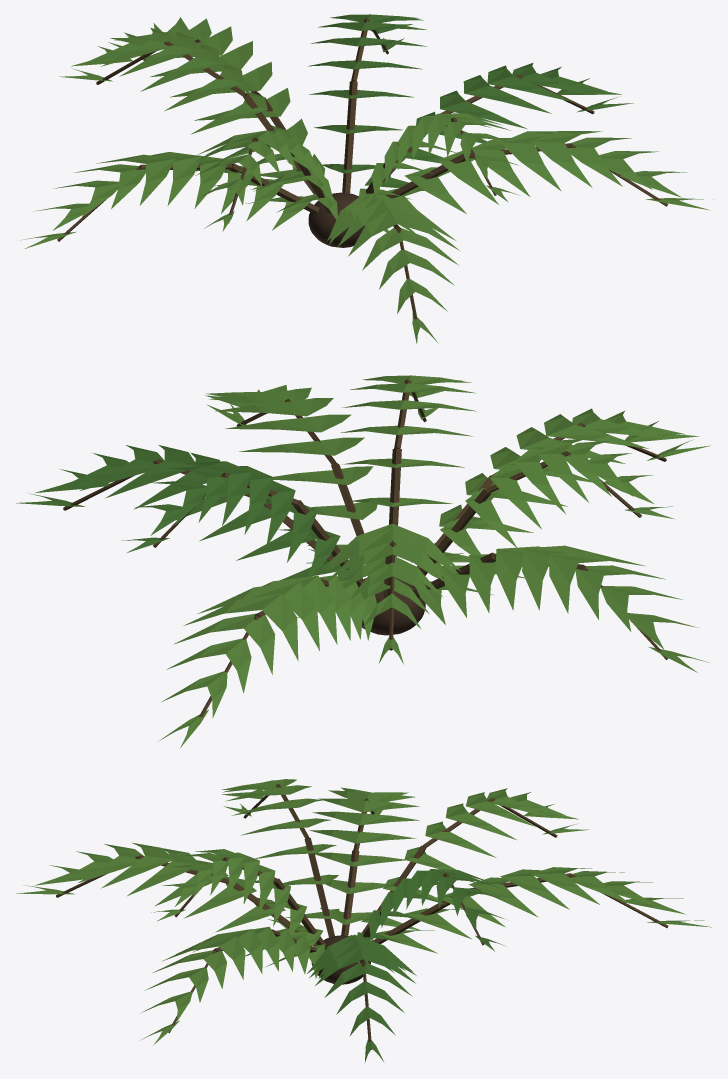
Rendered from fern.glb.
3 renders of one model, top to bottom at view 1: azimuth 30°, elevation 25°; view 2: azimuth 150°, elevation 25°; view 3: azimuth 270°, elevation 25°, orthographic. The views are drawn at different scales.
Visible parts, largest first — view 1: leaf2_57, leaf2_29, leaf2_43, leaf2_22, leaf_1, leaf2_36, leaf2_15, leaf2_50, leaf_8, trunk_0, stem_10; view 2: leaf2_15, leaf2_29, leaf_8, leaf2_36, leaf2_57, leaf2_22, leaf_1, leaf2_43, leaf2_50, trunk_0, stem_52, stem_38; view 3: leaf2_15, leaf2_43, leaf2_57, leaf2_29, leaf_1, leaf2_22, leaf2_50, leaf_8, leaf2_36, stem_38, stem_31, trunk_0 (+1 smaller).
Part boxes in pixels (x1,y1,x2,y2): leaf2_57: (377, 131, 713, 213); leaf2_29: (20, 152, 311, 248); leaf2_43: (327, 193, 459, 343); leaf2_22: (59, 27, 307, 189); leaf_1: (365, 63, 633, 188); leaf2_36: (195, 130, 337, 231); leaf2_15: (108, 17, 324, 177); leaf2_50: (359, 113, 519, 201); leaf_8: (308, 14, 426, 173); trunk_0: (308, 192, 365, 247); stem_10: (342, 81, 357, 193); leaf2_15: (158, 575, 376, 747); leaf2_29: (415, 545, 709, 672); leaf_8: (121, 461, 361, 581); leaf2_36: (414, 438, 673, 578); leaf2_57: (205, 385, 377, 550); leaf2_22: (322, 523, 461, 664); leaf_1: (16, 445, 338, 580); leaf2_43: (411, 408, 710, 562); leaf2_50: (340, 375, 475, 506); trunk_0: (362, 577, 425, 635); stem_52: (389, 448, 401, 556); stem_38: (412, 488, 491, 586); leaf2_15: (375, 867, 711, 953); leaf2_43: (16, 842, 306, 937); leaf2_57: (140, 926, 324, 1045); leaf2_29: (309, 787, 419, 924); leaf_1: (307, 934, 416, 1063); leaf2_22: (361, 788, 589, 930); leaf2_50: (151, 849, 322, 946); leaf_8: (357, 869, 505, 951); leaf2_36: (221, 779, 339, 918); stem_38: (304, 838, 334, 937); stem_31: (341, 849, 359, 935); trunk_0: (311, 935, 370, 984).
Bounding box in the file's own units: 1.87 × 0.4786 × 2.09.
